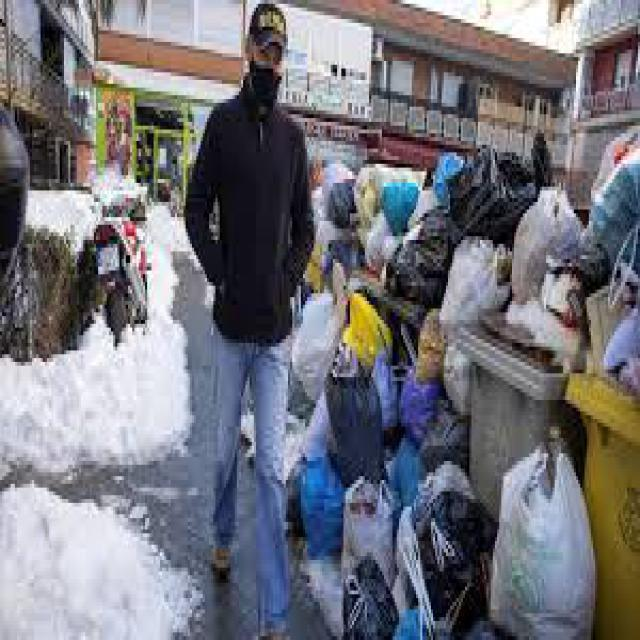Trashbag: (442, 128, 558, 246), (421, 495, 497, 603), (383, 212, 458, 303), (342, 565, 403, 640), (326, 175, 359, 230)
